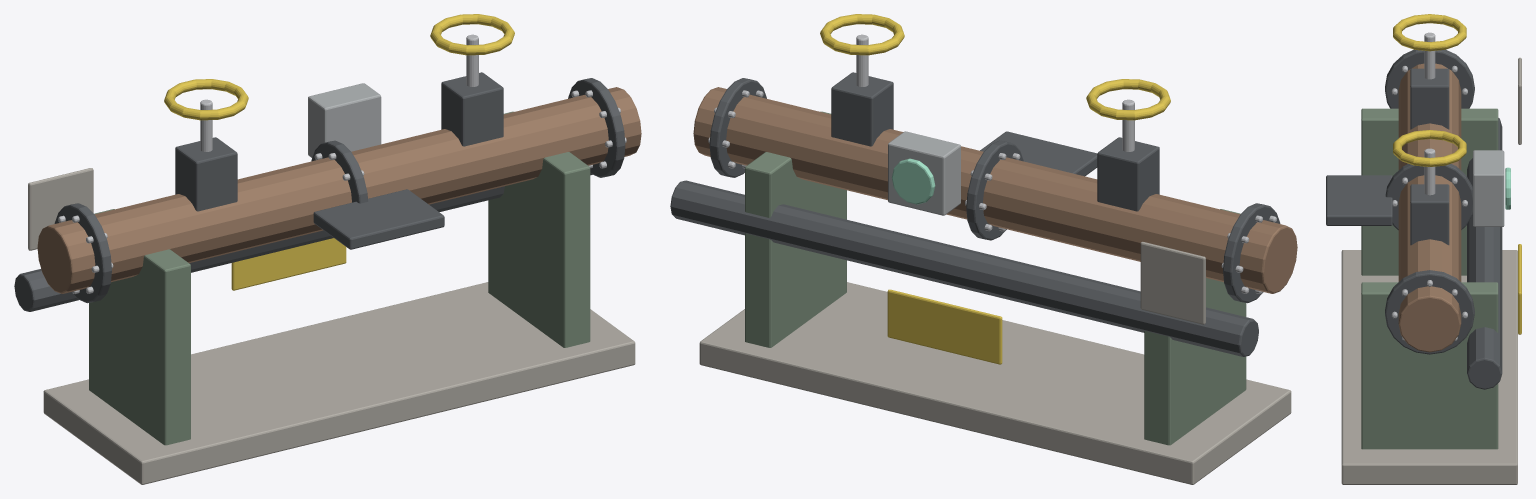
File: fuel_line.fbx
3 views of the same model, side by side, from view 1: azimuth 30°, elevation 25°; view 2: azimuth 150°, elevation 25°; view 3: azimuth 270°, elevation 25° (orthographic). The views are drawn at different scales.
Parts seen in each view (by area): view 1: fuel_line; view 2: fuel_line; view 3: fuel_line.
Part boxes in pixels (<box>): fuel_line: <box>14,14,641,484</box>; fuel_line: <box>670,14,1297,484</box>; fuel_line: <box>1326,14,1521,484</box>.
Bounding box in the file's own units: 3 × 1.64 × 1.
